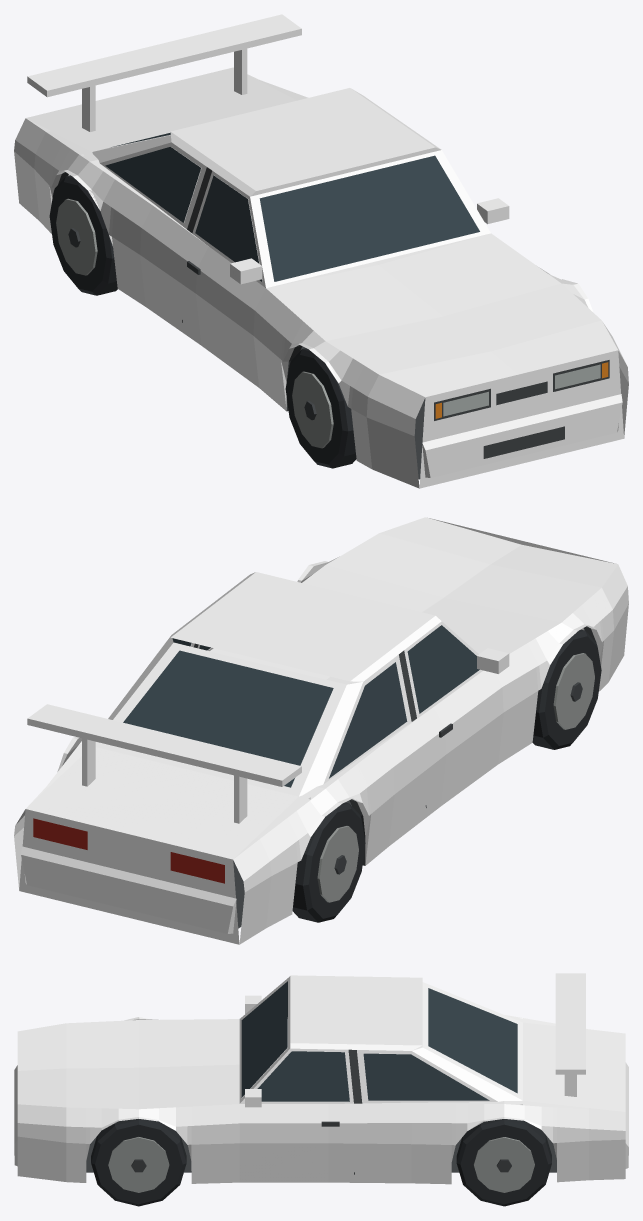
The model's file is whitlock_yucca_corrida.glb.
3 views of the same model, one above another, from view 1: azimuth 30°, elevation 25°; view 2: azimuth 150°, elevation 25°; view 3: azimuth 270°, elevation 25° (orthographic). The views are drawn at different scales.
Parts seen in each view (by area): view 1: whitlock_yucca_corrida; view 2: whitlock_yucca_corrida; view 3: whitlock_yucca_corrida.
Part boxes in pixels (x1,y1,x2,y2): whitlock_yucca_corrida: [14, 14, 628, 488]; whitlock_yucca_corrida: [14, 517, 628, 944]; whitlock_yucca_corrida: [14, 973, 628, 1206].
Bounding box in the file's own units: 1.74 × 1.19 × 4.44.
Materials: 8 (1 with a texture image).
